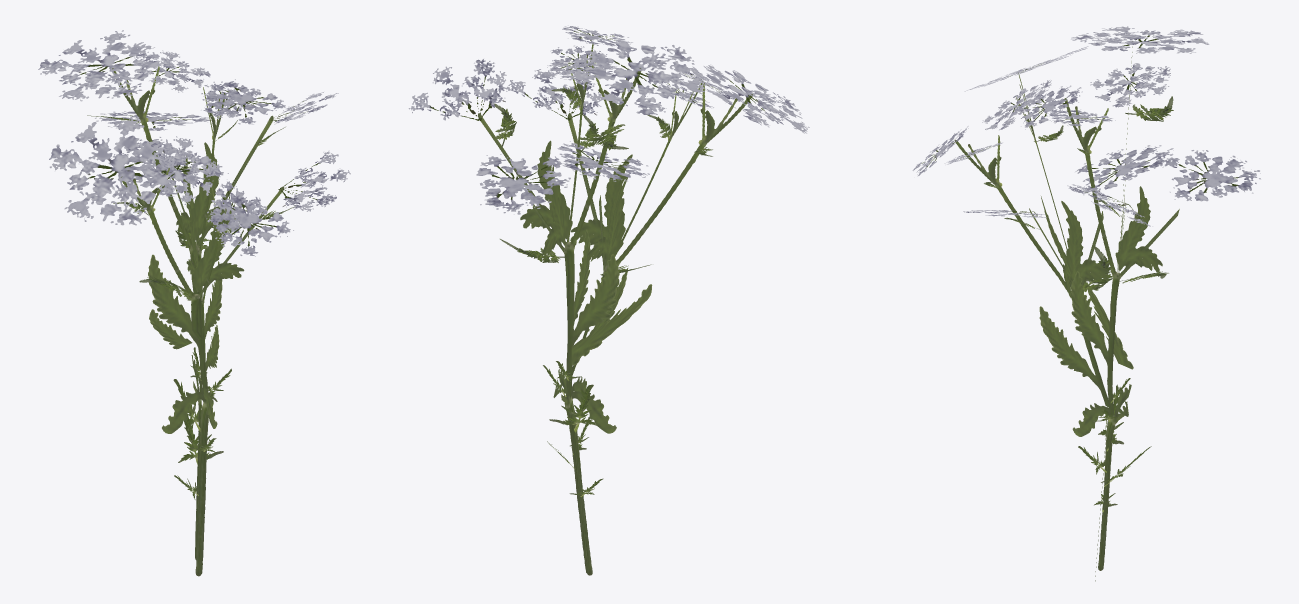
File: arden_forest_yarrow_01_foliage.fbx
3 views of the same model, side by side, from view 1: azimuth 30°, elevation 25°; view 2: azimuth 150°, elevation 25°; view 3: azimuth 270°, elevation 25° (orthographic). The views are drawn at different scales.
Visible parts, largest first — view 1: arden_forest_yarrow_01_foliage; view 2: arden_forest_yarrow_01_foliage; view 3: arden_forest_yarrow_01_foliage.
Boxes of the visible parts, bbox=[...] form: arden_forest_yarrow_01_foliage: bbox=[38, 30, 350, 576]; arden_forest_yarrow_01_foliage: bbox=[408, 25, 809, 575]; arden_forest_yarrow_01_foliage: bbox=[912, 26, 1260, 581].
Size of the model in its own units: 94.08 by 126 by 84.95.
